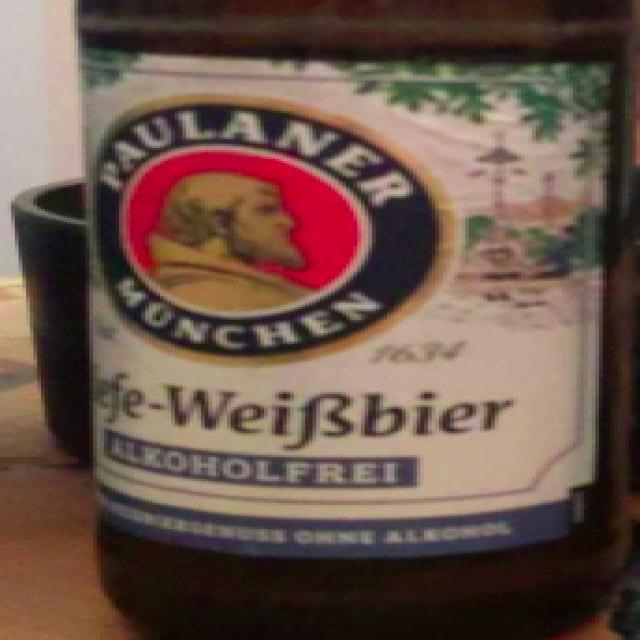Paulaner Weissbier: (3, 2, 640, 640)
